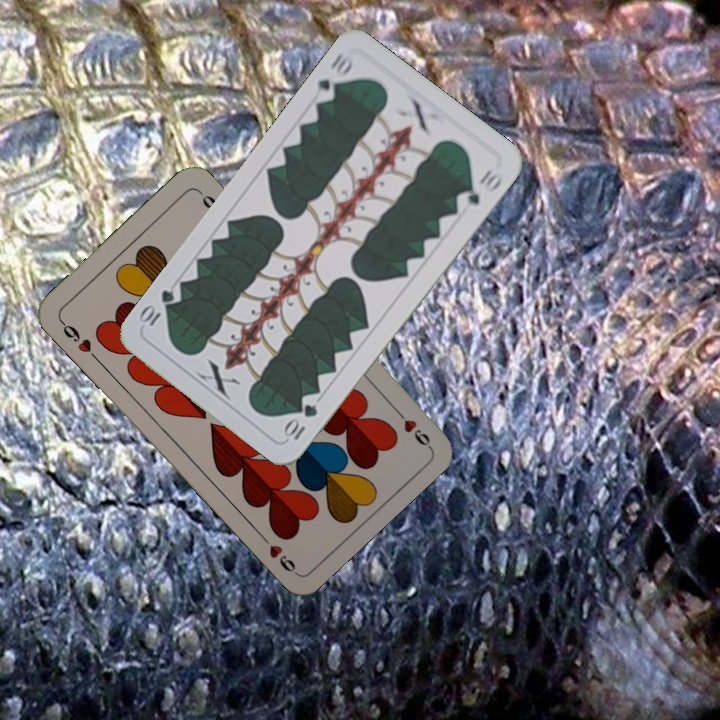G10: (310, 49, 357, 106), (280, 400, 321, 443)
H9: (388, 402, 433, 450), (56, 316, 101, 363)
